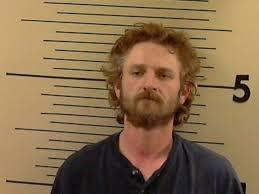No Mask: (104, 29, 225, 150)
